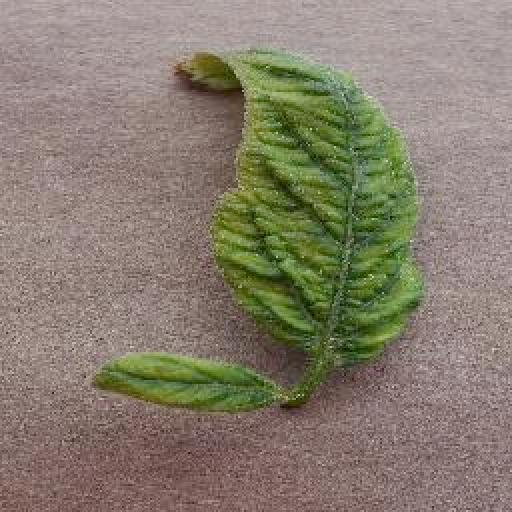disease_tomato: (175, 52, 424, 370), (88, 350, 282, 414)
